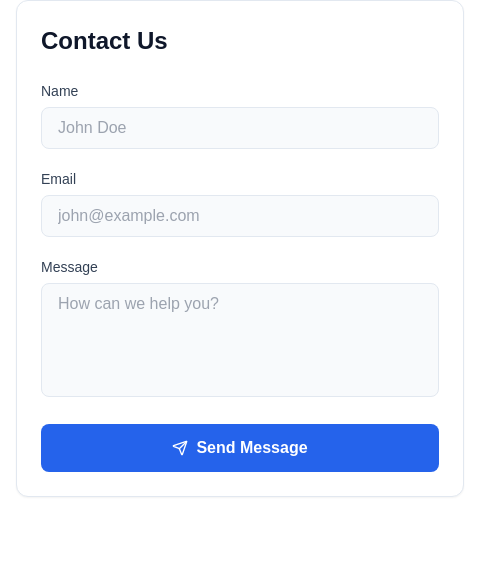
ContactForm › shows error for invalid email format
The image size is (481, 580).
Type "invalid-email" into the field labelled "Email" at (240, 216), box 41,195 -> 439,237
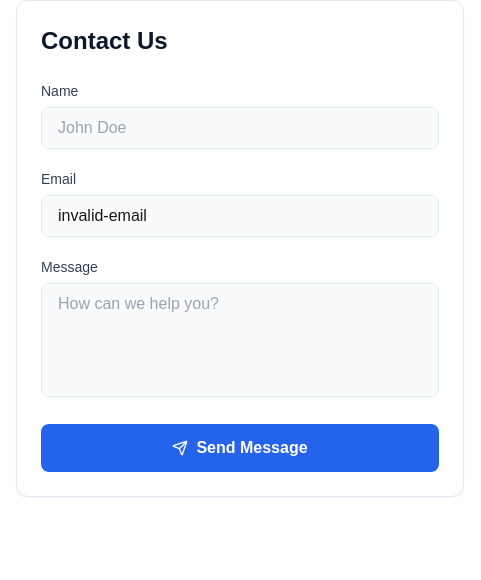
Click the button "Send Message" at (240, 448), box 41,424 -> 439,472
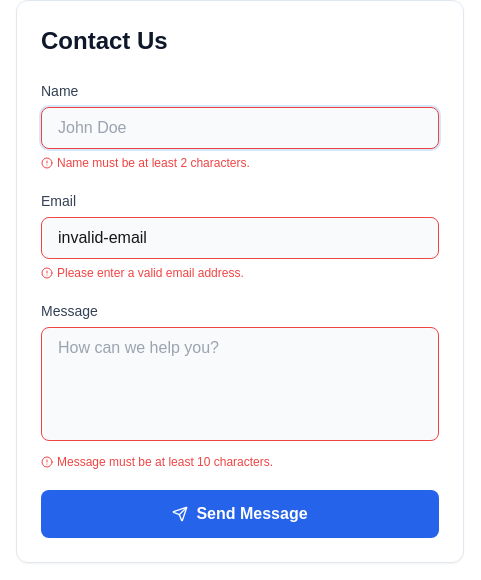
Expected: the text "Please enter a valid email address." is shown, 41,266 -> 244,280
